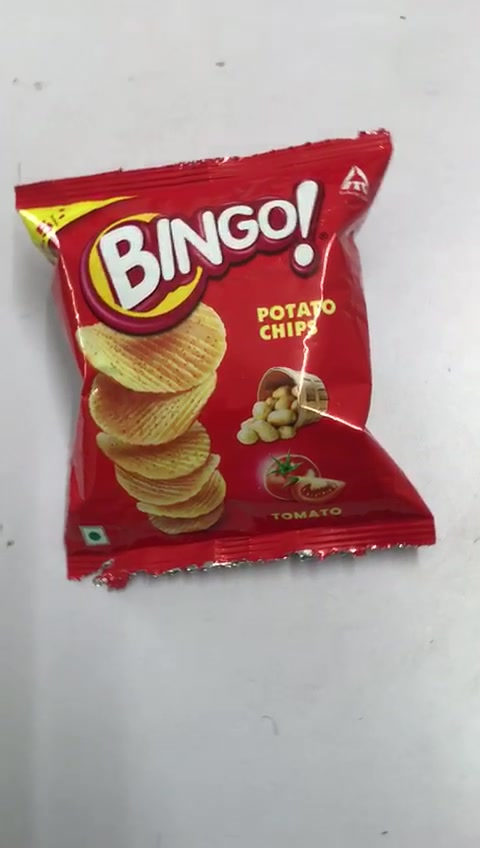bingo: (18, 129, 456, 564)
